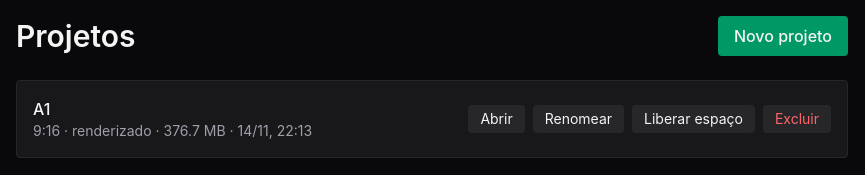
Test: ProjectsScreen — renomear › salva o título e mostra o novo nome
Click the button with aria-label "renomear A1" at x=578, y=119, box [533,105,624,133]
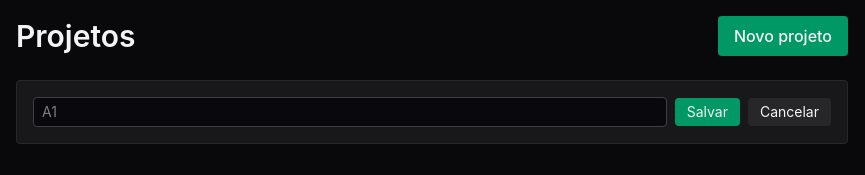
Type "Check-up da carteira" into the field named "título de A1" at x=350, y=112, box [33,97,667,127]
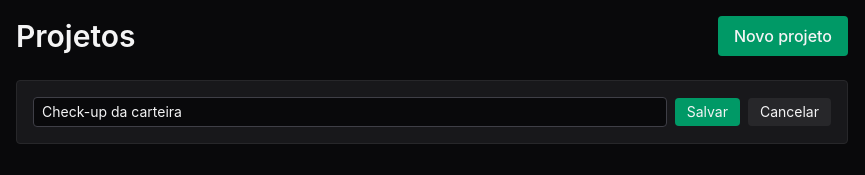
Click the button with aria-label "salvar nome de A1" at x=707, y=112, box [675,98,740,126]
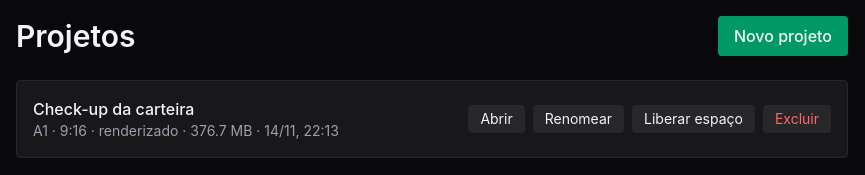
Now the text "Check-up da carteira" is shown, box [33,97,194,121]
